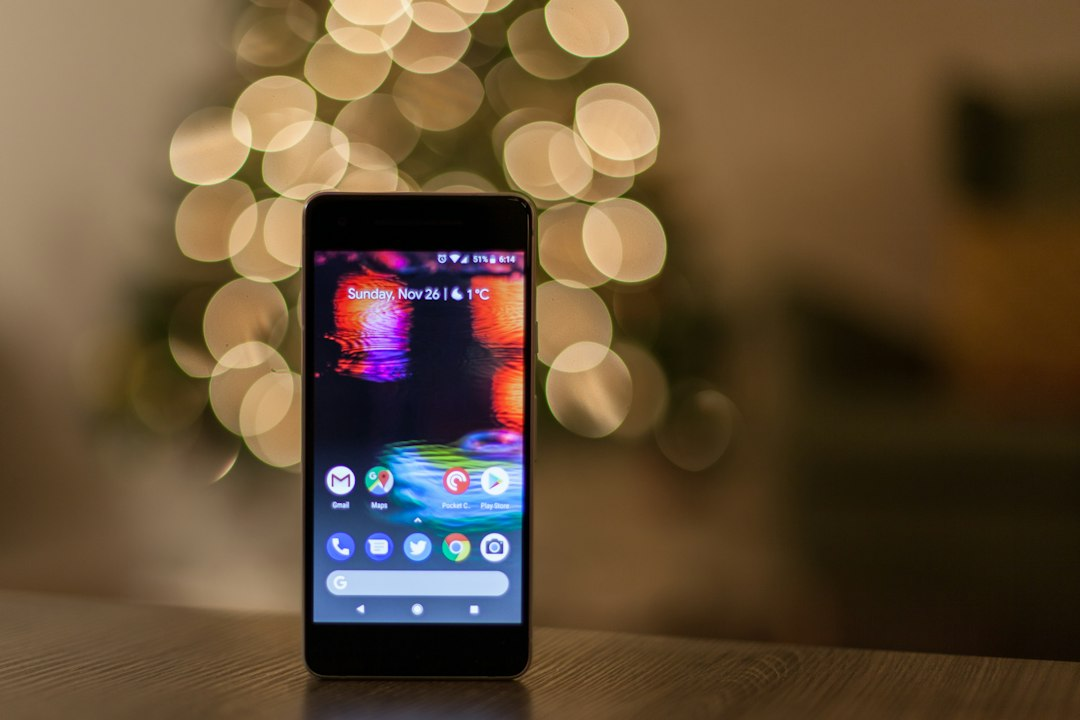phone: (297, 192, 536, 683)
